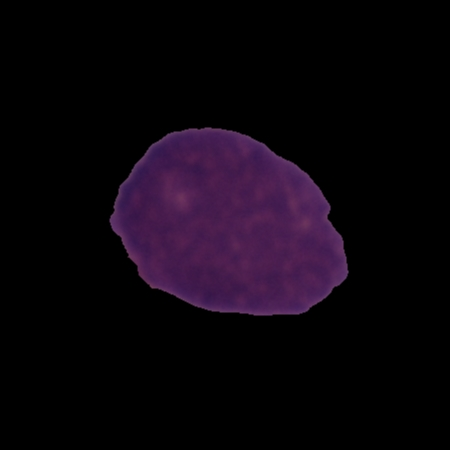HEM: (106, 122, 352, 319)
